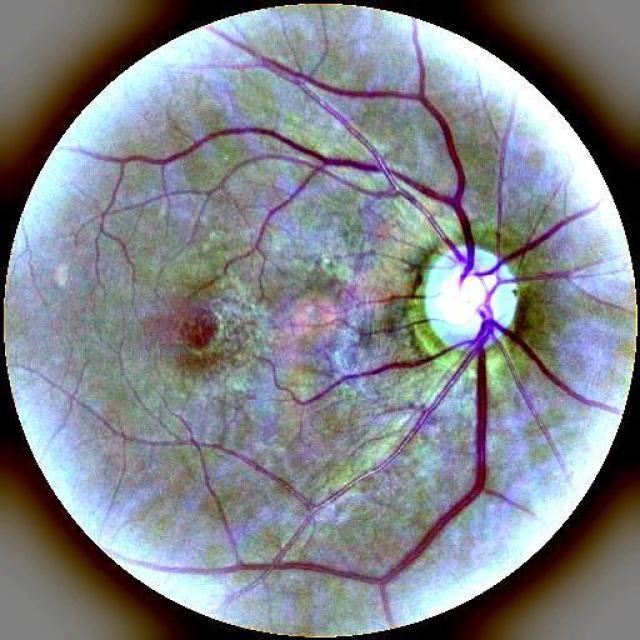Macula: (179, 308, 216, 350)
Nerves: (128, 289, 610, 585), (93, 60, 478, 286)
Optic Disk: (419, 249, 518, 344)
